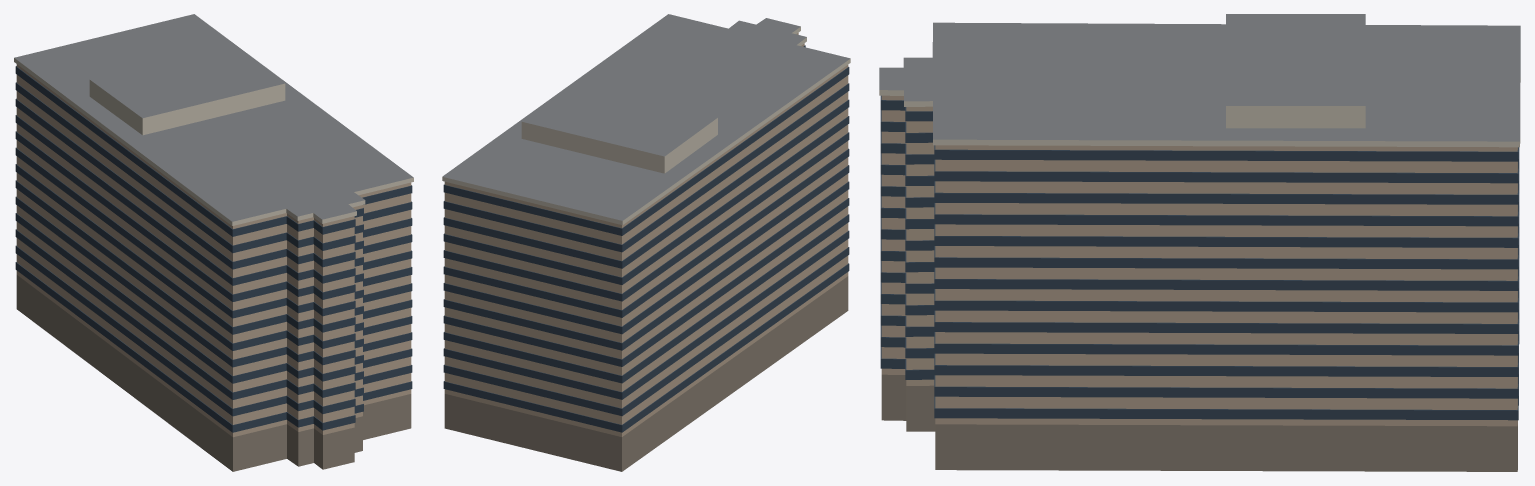
The model's file is bonneville_towers.glb.
The picture shows the model from 3 angles, left to right: view 1: azimuth 30°, elevation 25°; view 2: azimuth 150°, elevation 25°; view 3: azimuth 270°, elevation 25°; orthographic projection. The views are drawn at different scales.
Visible parts, largest first — view 1: Bonneville_Towers; view 2: Bonneville_Towers; view 3: Bonneville_Towers.
Part boxes in pixels (x1,y1,x2,y2): Bonneville_Towers: (14,14,413,471); Bonneville_Towers: (442,14,850,471); Bonneville_Towers: (879,14,1520,471).
Bounding box in the file's own units: 36.24 × 50.3 × 82.64.
